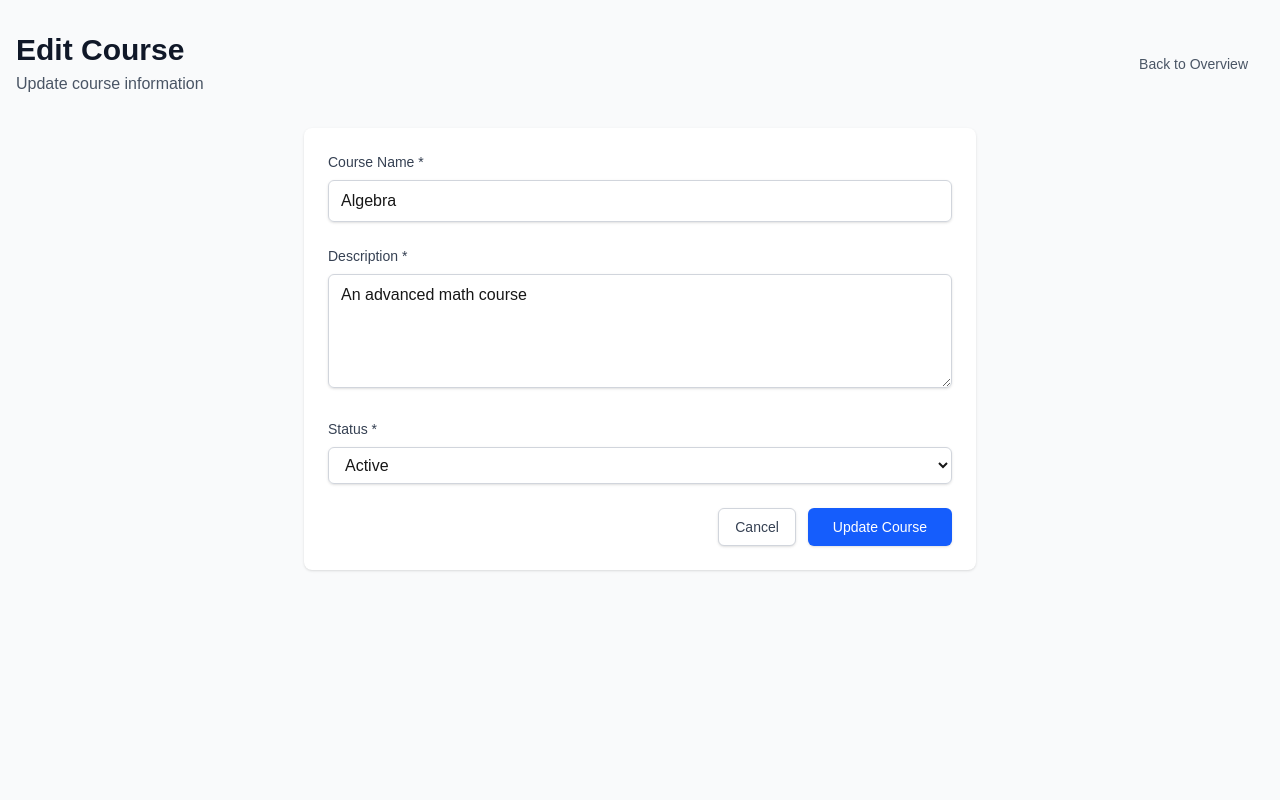
Test case: EditCoursePage › submits and redirects on success
Expected: the field showing "Algebra" is shown, [328, 180, 952, 222]
Click the button "Update Course": (880, 527) [808, 508, 952, 546]
Wait 1500 ms
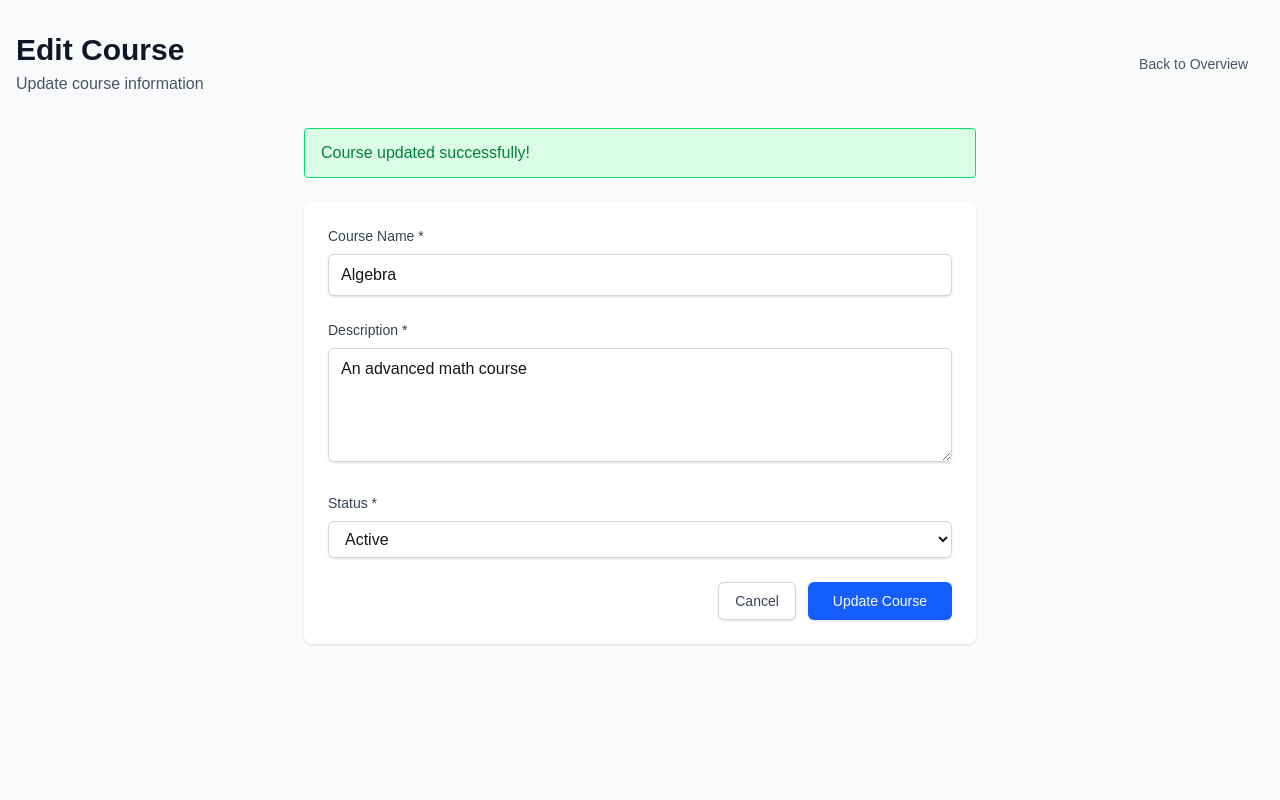
Expected: the text "Course updated successfully!" is shown, [304, 128, 976, 178]
